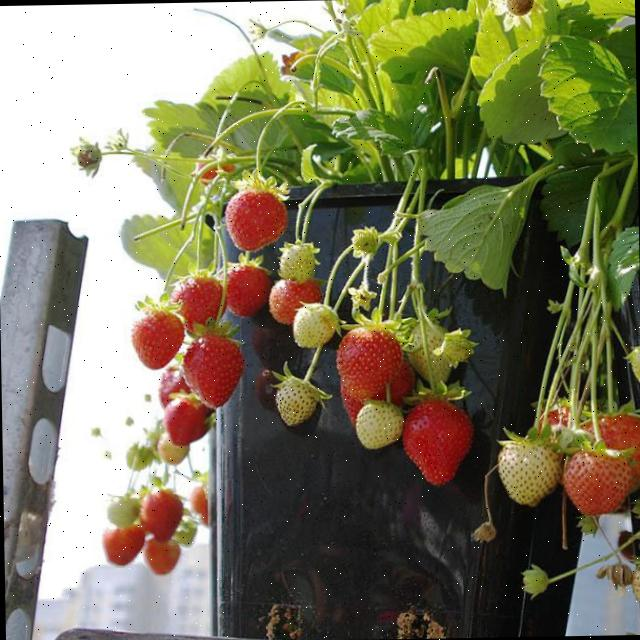Ripe Strawberry: (404, 401, 470, 484), (337, 328, 403, 398), (182, 336, 243, 406), (226, 190, 286, 249), (130, 309, 186, 368), (172, 276, 225, 332), (166, 400, 216, 444), (141, 494, 183, 542), (224, 267, 266, 313), (104, 525, 144, 564), (159, 366, 191, 406), (145, 539, 181, 573), (378, 368, 412, 400), (540, 408, 570, 437), (340, 384, 362, 420), (198, 162, 232, 184), (192, 486, 209, 526)
